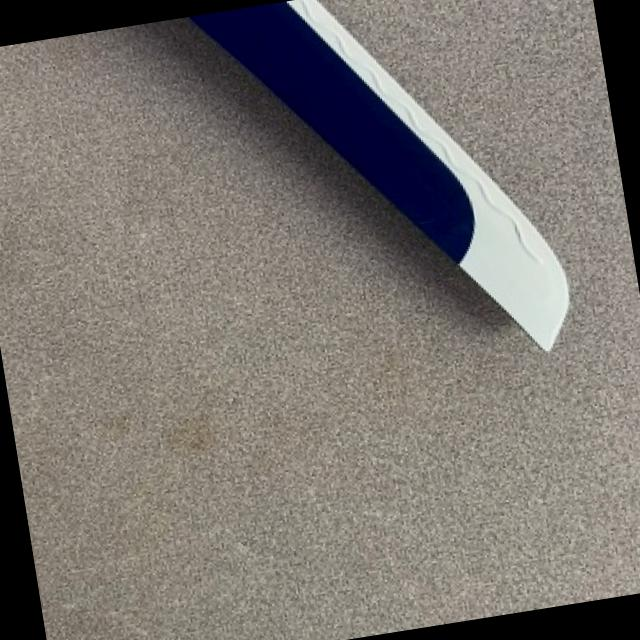healthy: (194, 0, 572, 349)
